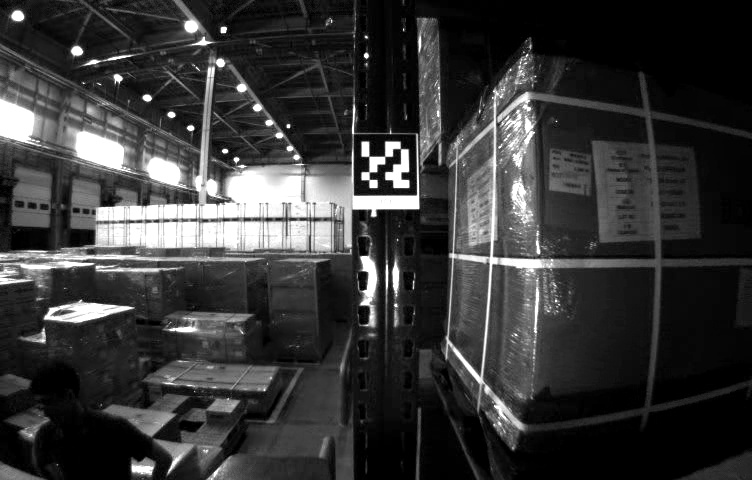True Barcode: (549, 149, 591, 195)
